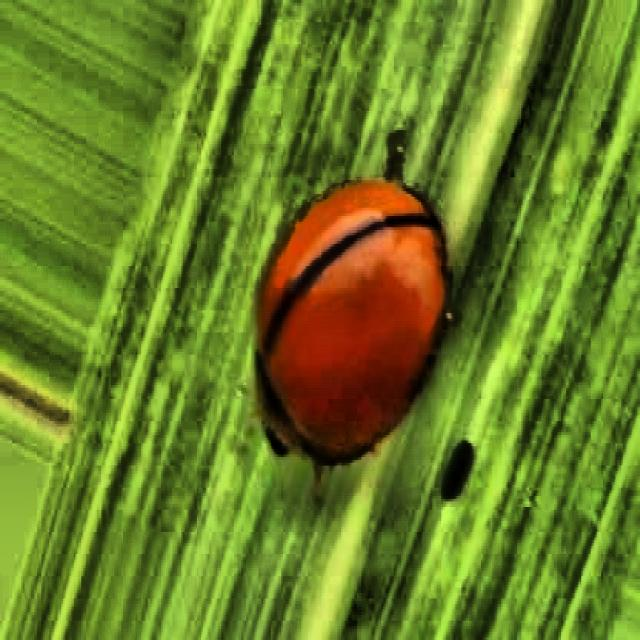Ladybug: (164, 94, 540, 640)
